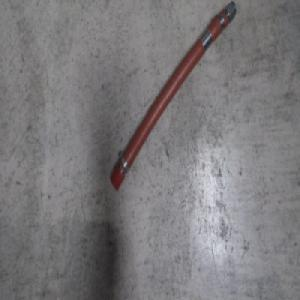Hose: (108, 3, 238, 193)
